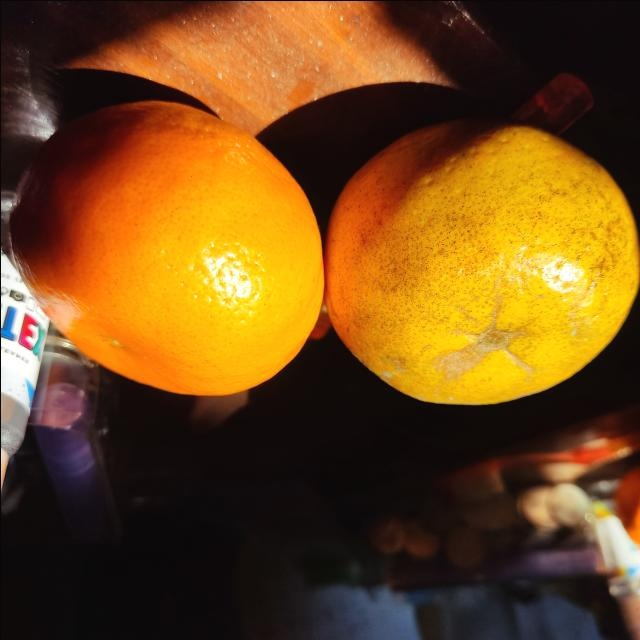agrume: (11, 100, 324, 400), (323, 108, 638, 404)
